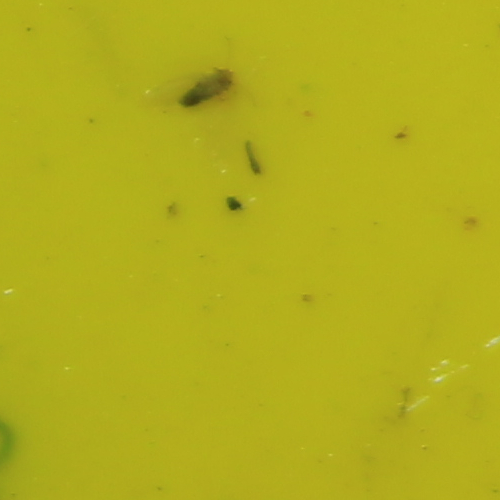Glycaspis: (177, 64, 238, 110)
